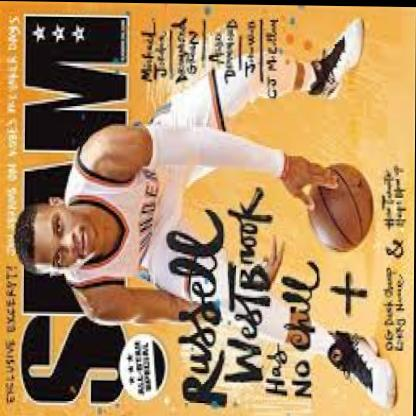Paper: (0, 1, 416, 413)
